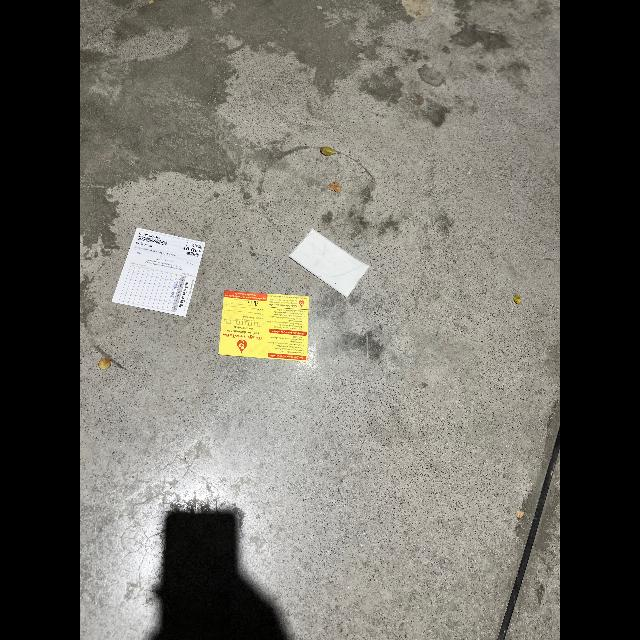scrap_paper: (102, 220, 212, 322), (201, 292, 323, 368), (276, 226, 380, 296)
